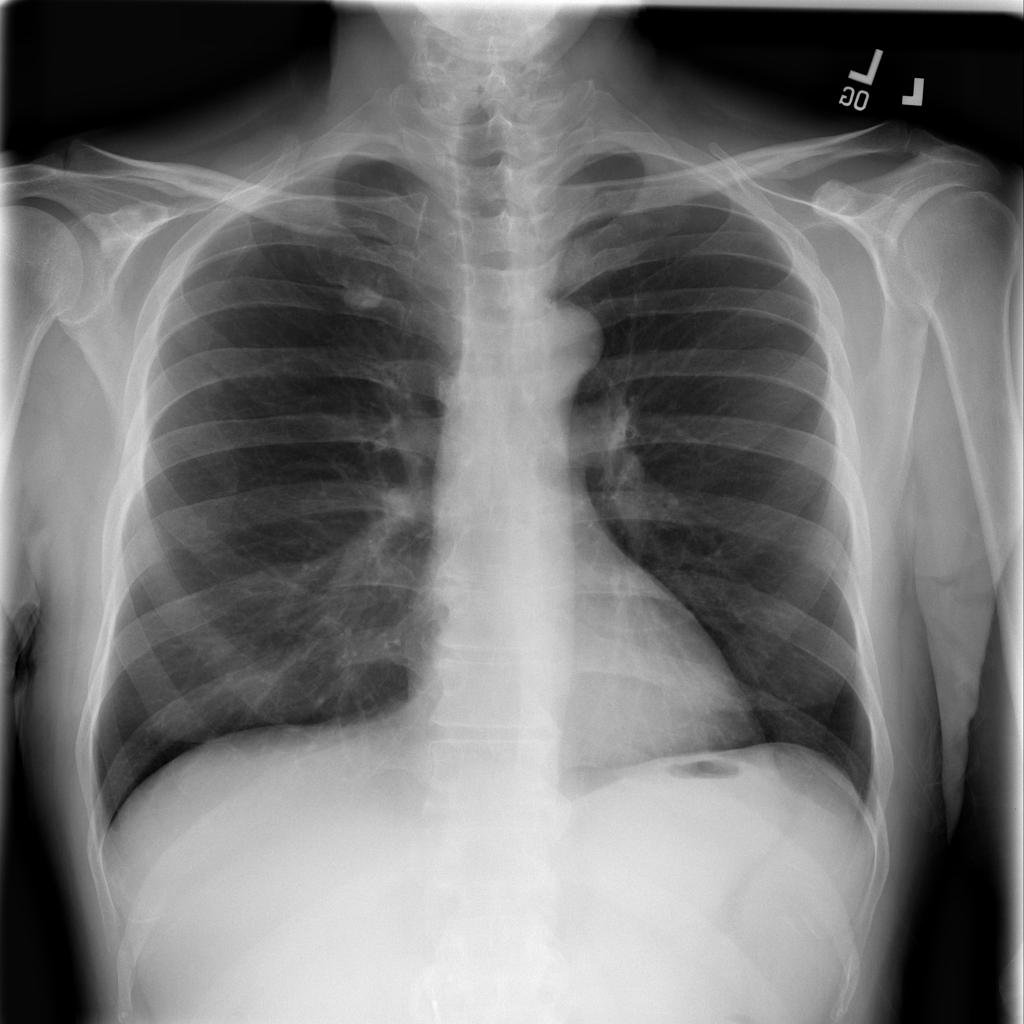nodule: (323, 265, 406, 324)
